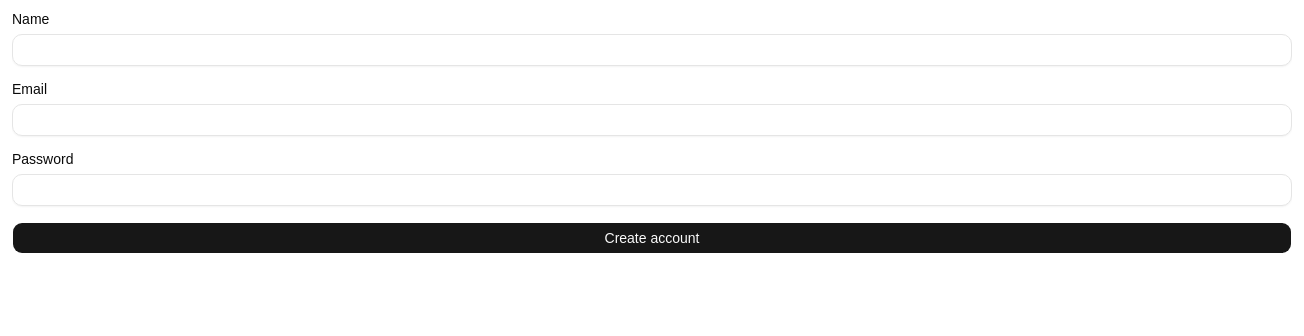
Test: RegisterForm › shows the server's error message inline without navigating on a duplicate email
Type "Ada Lovelace" into the field labelled "Name". click: (652, 50)
box: [12,34,1292,66]
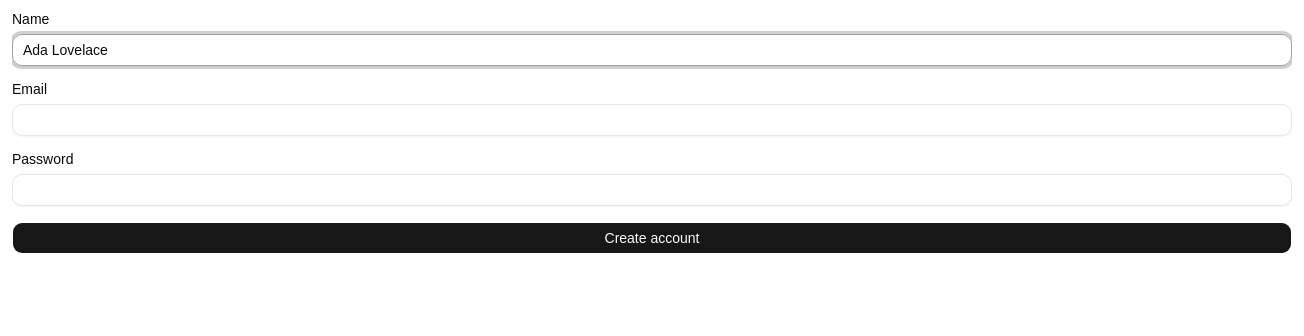
Type "ada@example.com" into the field labelled "Email". click: (652, 120)
box: [12,104,1292,136]
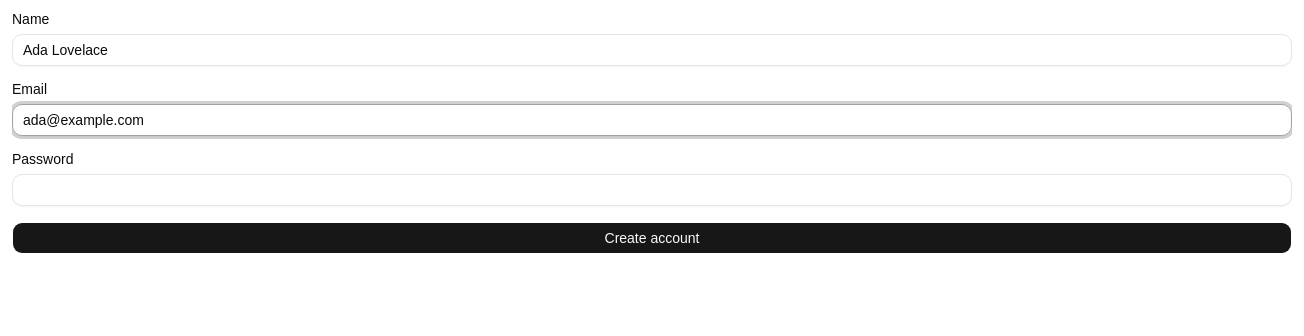
Type "supersecret" into the password field labelled "Password". click: (652, 190)
box: [12,174,1292,206]
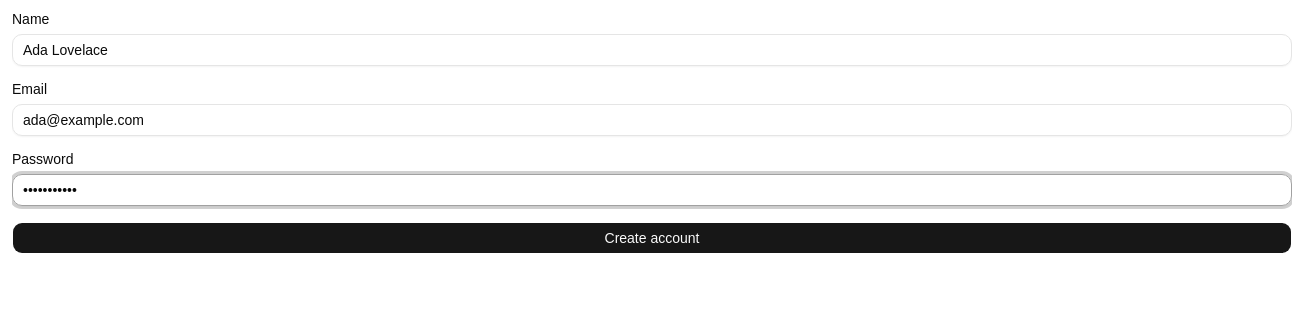
Click the button "Create account". click: (652, 238)
box: [12,222,1292,254]
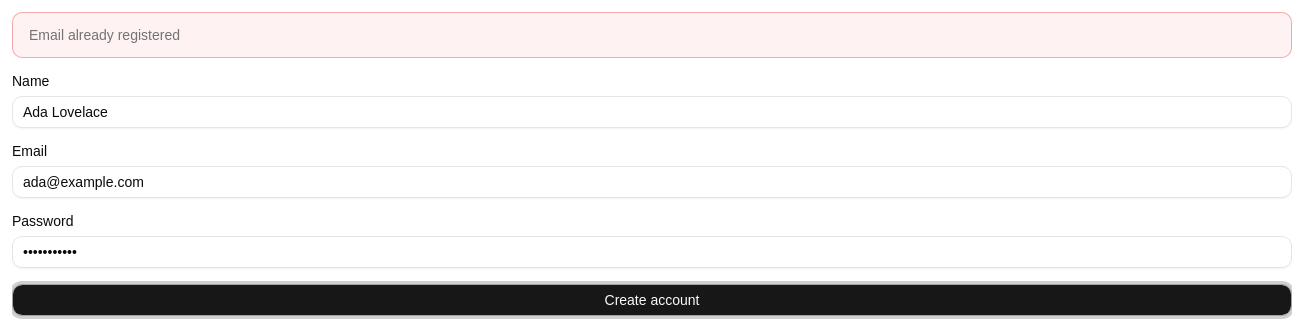
Now the text "Email already registered" is shown, box [29,27,180,43]
